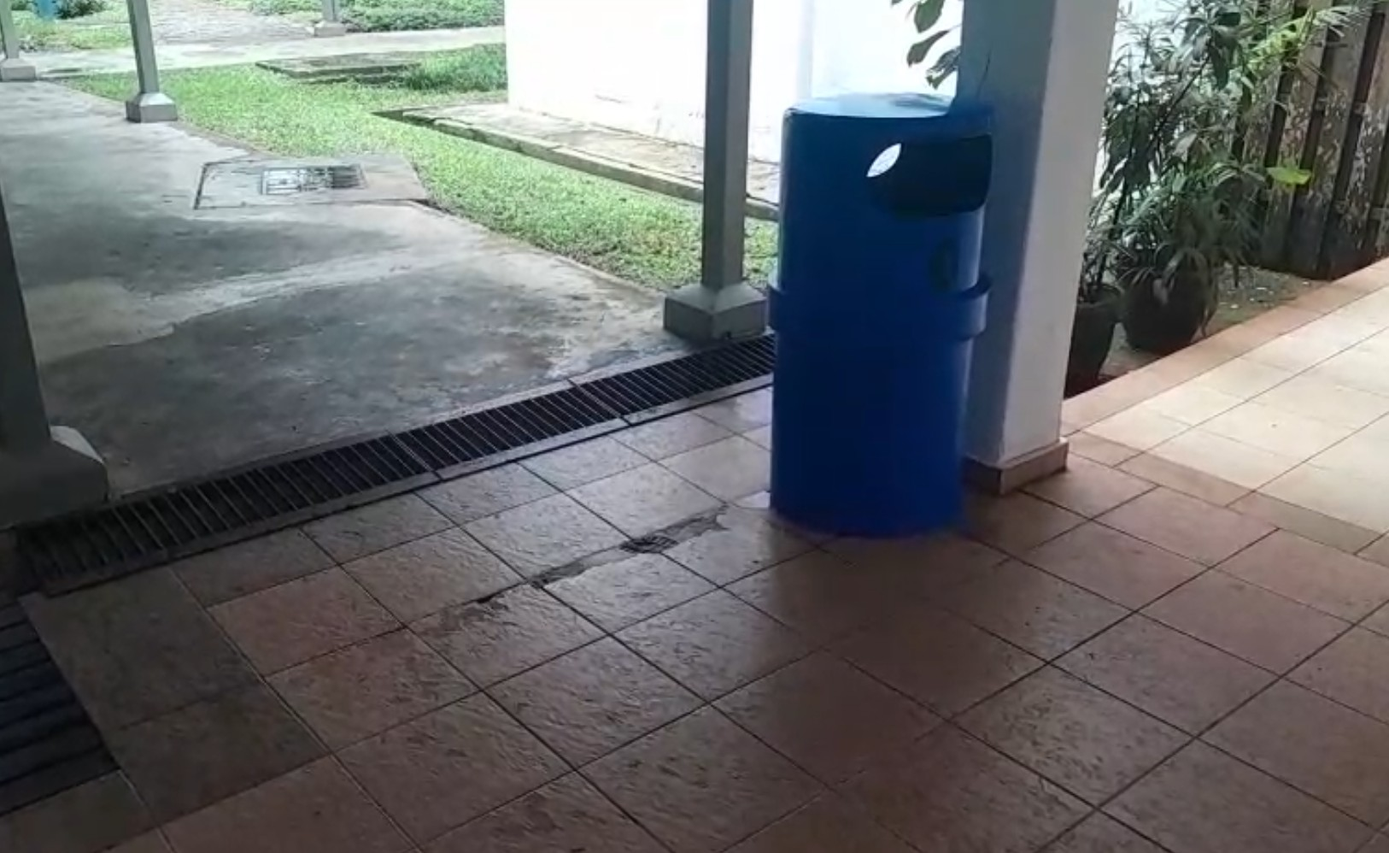bin_empty: (769, 94, 993, 537)
